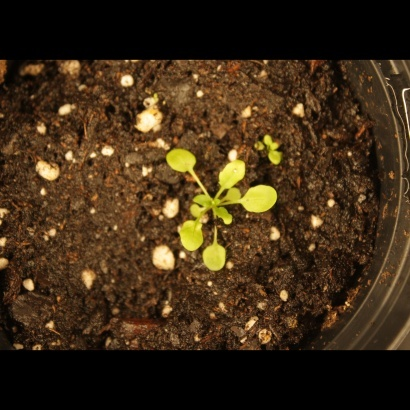leaf: (240, 181, 284, 222), (162, 138, 200, 179), (213, 157, 248, 192), (177, 217, 205, 257), (202, 237, 228, 277), (190, 193, 213, 216), (215, 204, 238, 227)
